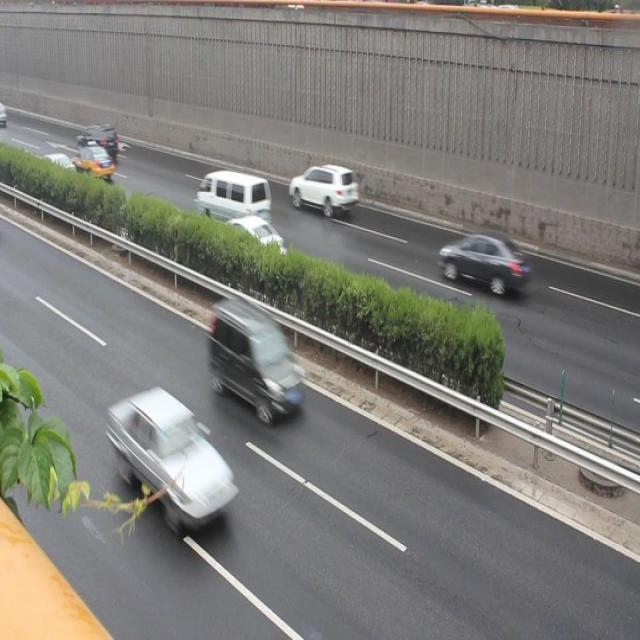car: (110, 388, 236, 526), (208, 297, 302, 421), (435, 229, 524, 296), (206, 214, 282, 266), (287, 162, 356, 216), (33, 152, 77, 192), (68, 144, 114, 182), (77, 124, 119, 162)
truck: (194, 169, 270, 229)
